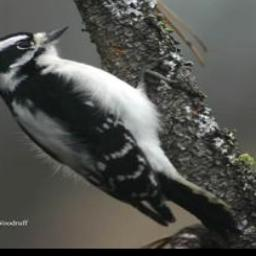Woodpecker: (0, 25, 239, 238)
